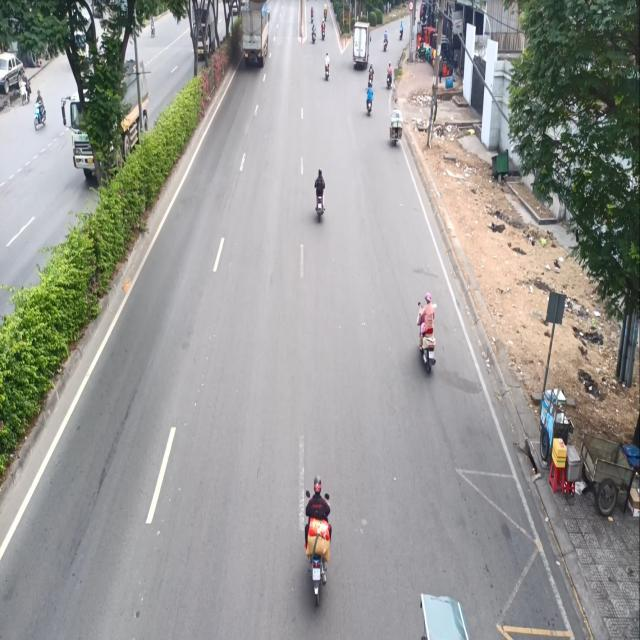motorbike: (299, 464, 334, 608), (416, 290, 436, 378), (310, 166, 328, 224), (321, 48, 332, 80)
truck: (242, 0, 272, 74), (352, 12, 370, 73)
